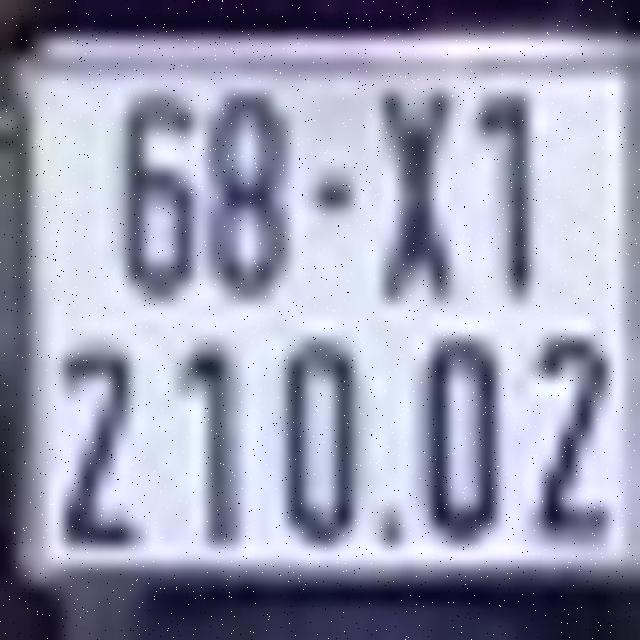0: (422, 328, 504, 544), (281, 332, 361, 547)
1: (475, 86, 541, 299), (179, 346, 242, 543)
2: (531, 330, 616, 540), (60, 347, 139, 547)
6: (122, 88, 196, 301)
8: (208, 86, 290, 300)
X: (378, 84, 457, 303)
